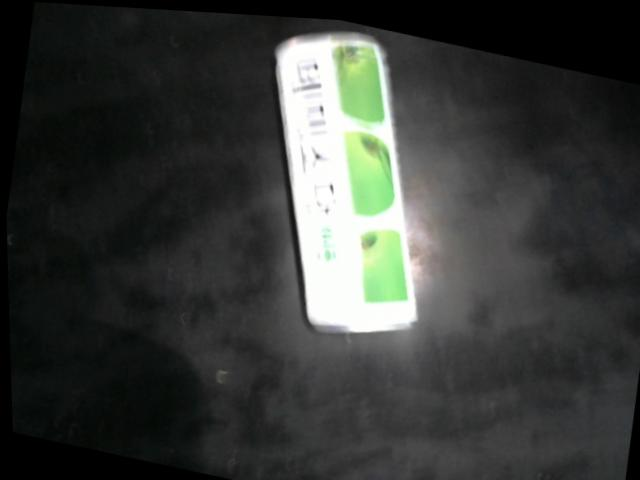can: (272, 24, 418, 333)
